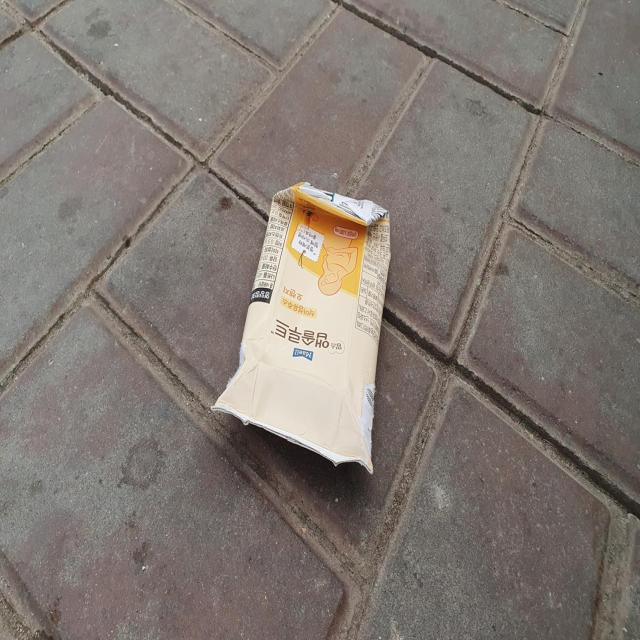paperpack: (212, 181, 391, 473)
